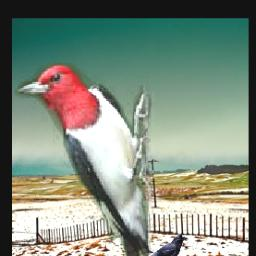Crow: (138, 234, 188, 256)
Woodpecker: (12, 64, 154, 256)
